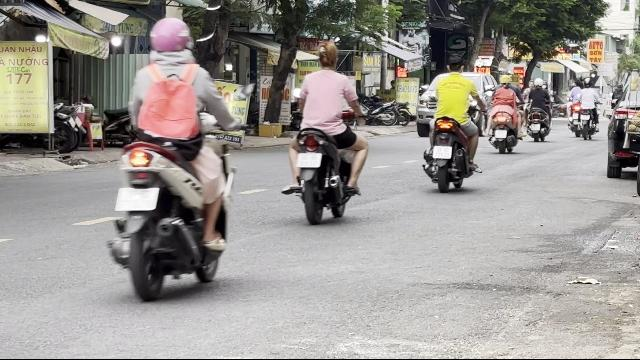helmet: (146, 17, 194, 61)
licenseplate: (116, 190, 156, 210), (297, 153, 321, 167), (432, 145, 452, 159)
motorcyclist: (108, 16, 240, 300), (280, 41, 370, 223), (420, 55, 482, 192)
nohelmet: (315, 42, 339, 70), (445, 55, 463, 74)
